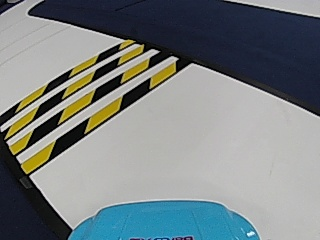bump: (5, 39, 169, 167)
